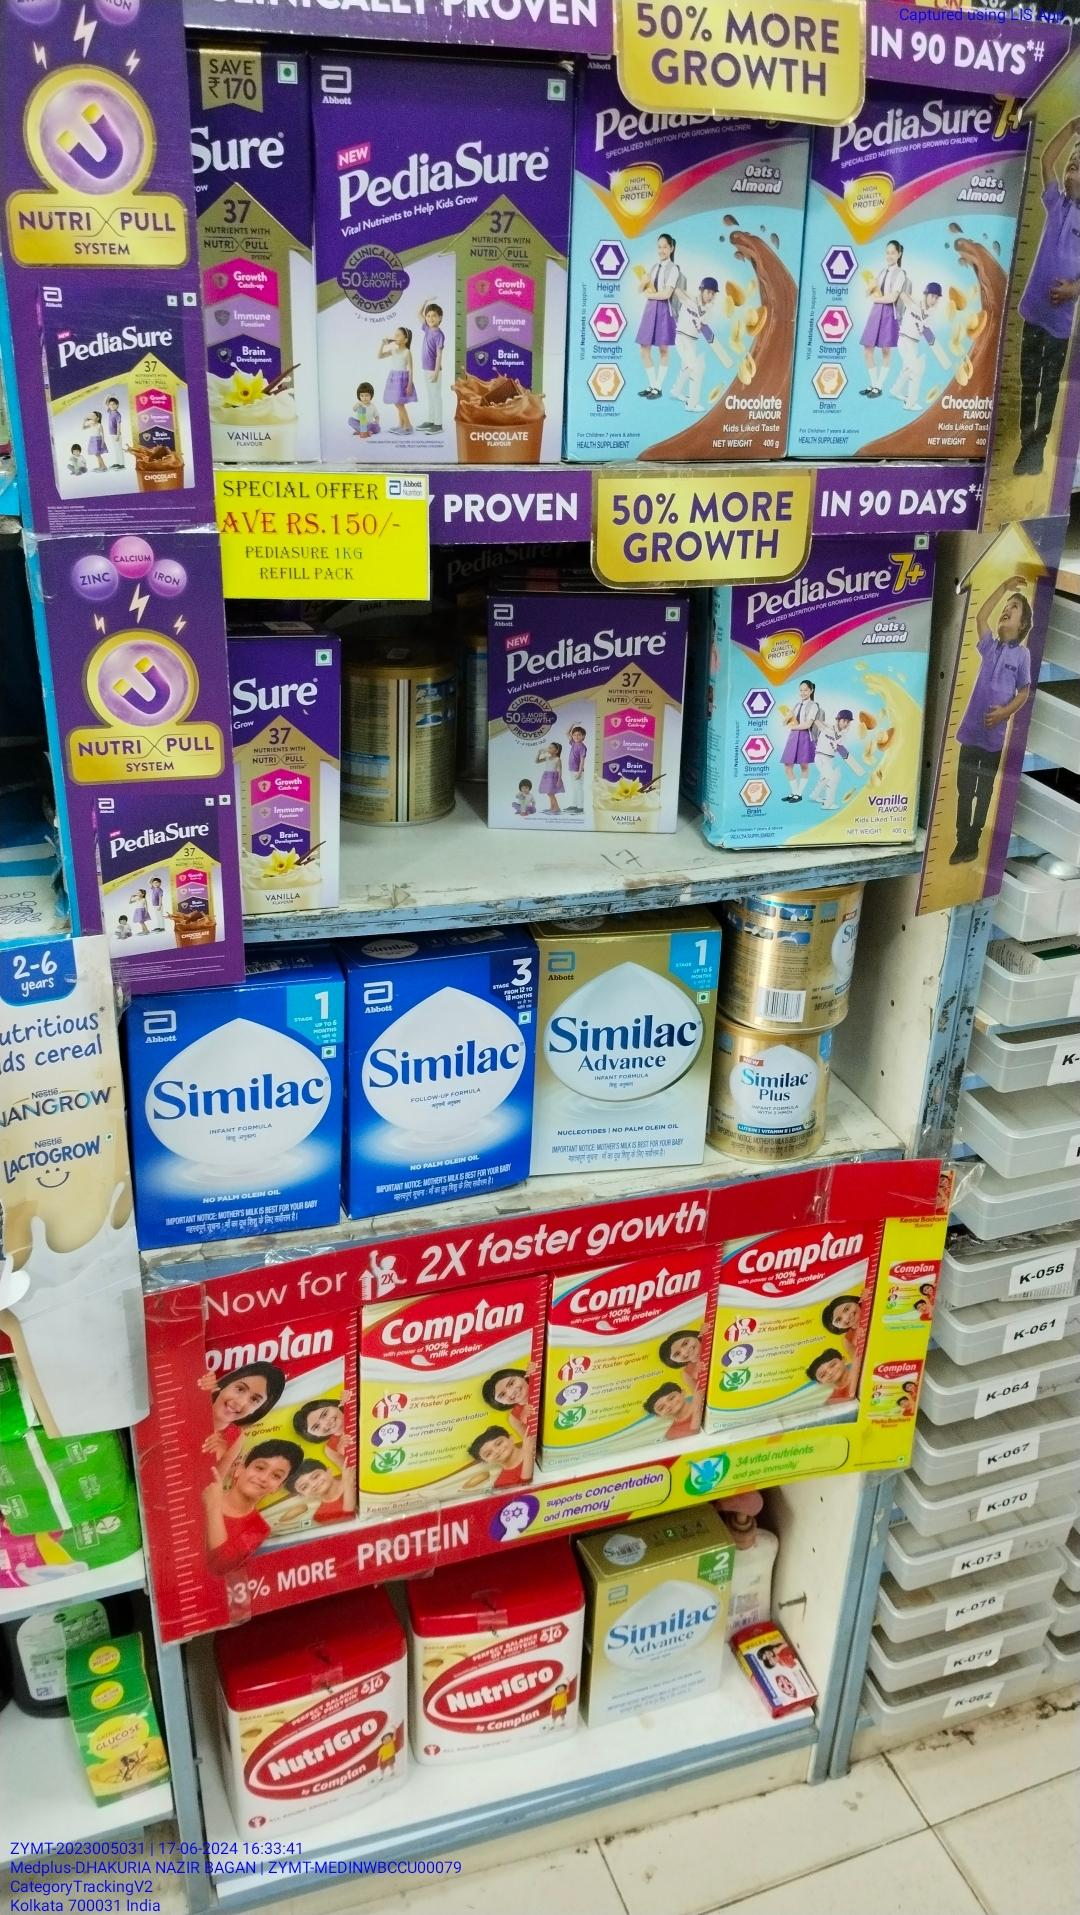COMPLAN_CREAMY_CLASSIC_500_G_PACK: (547, 1272, 708, 1442), (717, 1238, 864, 1409)
COMPLAN_KESAR_BADAM_500_GMS_PACK: (360, 1303, 534, 1494)
PEDIASURE_7_PLUS_CHOCOLATE_400_G_PACK: (316, 55, 552, 455), (574, 121, 791, 460), (804, 112, 987, 464)
PEDIASURE_VANILLA_500_G_PACK: (491, 594, 680, 835)
